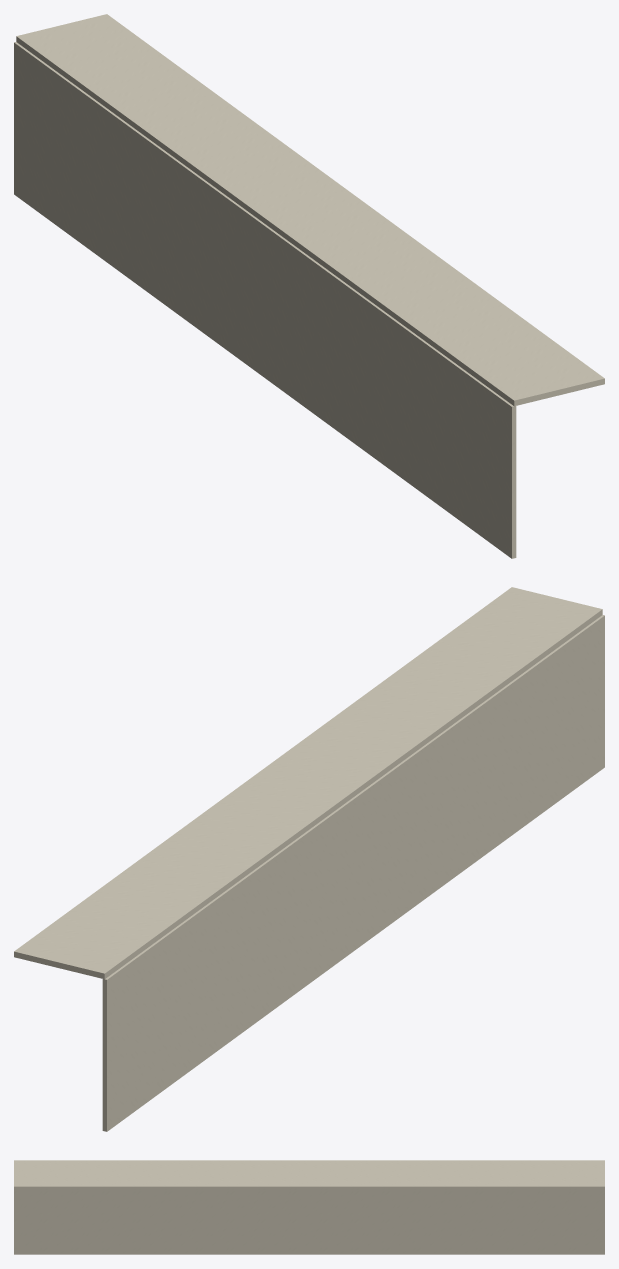
The model's file is SERVICE_D09_PF_outer_04__shell.glb.
3 views of the same model, one above another, from view 1: azimuth 30°, elevation 25°; view 2: azimuth 150°, elevation 25°; view 3: azimuth 270°, elevation 25° (orthographic). The views are drawn at different scales.
Parts seen in each view (by area): view 1: SERVICE_D09_PF_outer_04__shell__ivory_enamel; view 2: SERVICE_D09_PF_outer_04__shell__ivory_enamel; view 3: SERVICE_D09_PF_outer_04__shell__ivory_enamel.
Boxes of the visible parts, x1,y1,x2,y2 form: SERVICE_D09_PF_outer_04__shell__ivory_enamel: (14, 14, 604, 558); SERVICE_D09_PF_outer_04__shell__ivory_enamel: (14, 587, 604, 1131); SERVICE_D09_PF_outer_04__shell__ivory_enamel: (14, 1160, 604, 1254).
Bounding box in the file's own units: 2.05 × 3.32 × 19.
Materials: 2 (1 with a texture image).
